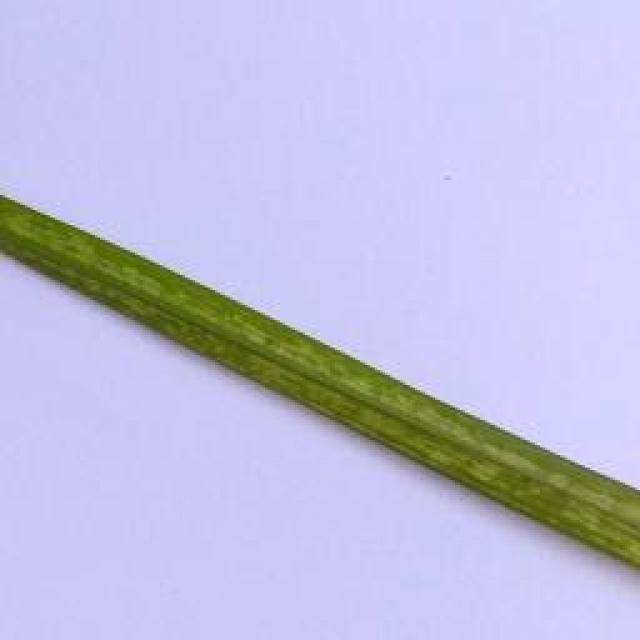Healthy-Plant: (0, 192, 640, 576)
